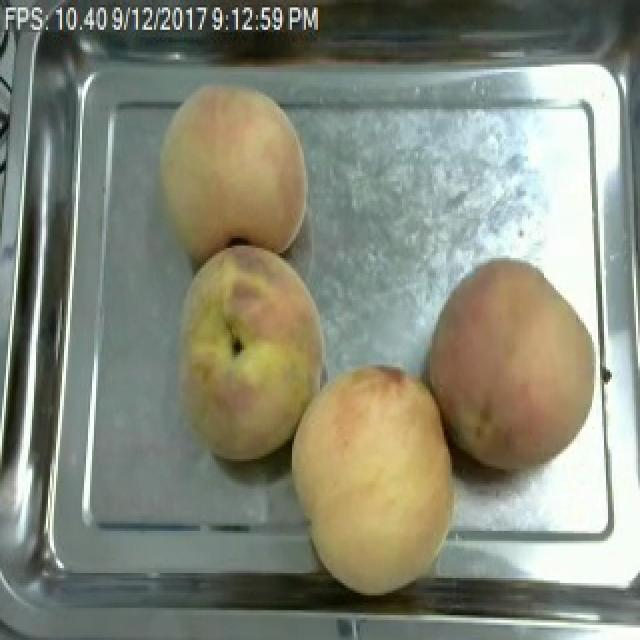Fruit: (282, 357, 470, 608), (418, 253, 606, 476), (166, 238, 336, 466), (146, 72, 320, 270)
